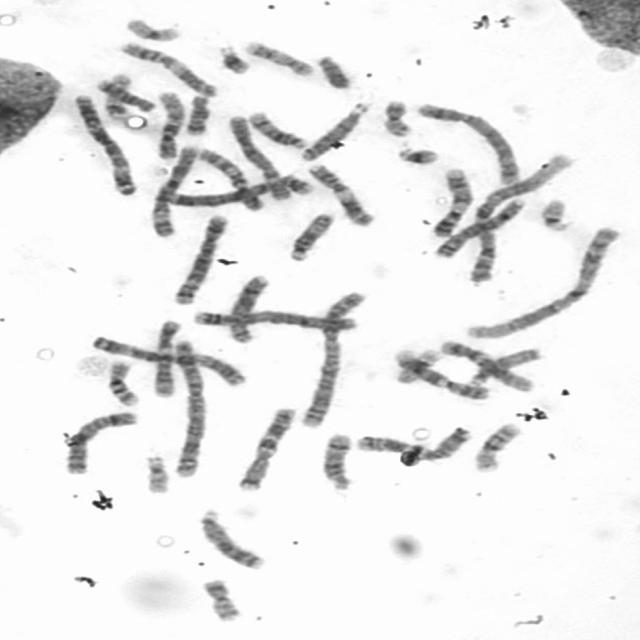A1: (461, 223, 625, 342), (465, 153, 577, 285)
A2: (295, 288, 366, 429), (168, 336, 208, 480)
A3: (87, 332, 250, 388), (68, 91, 140, 197)
B4: (164, 174, 316, 208), (189, 308, 359, 333)
B5: (413, 99, 522, 186), (168, 211, 232, 306)
C10: (192, 144, 266, 213), (151, 88, 187, 161)
C11: (116, 40, 218, 97), (303, 160, 376, 229)
C12: (435, 337, 535, 393), (151, 318, 183, 400)
C6: (226, 110, 293, 202), (144, 142, 201, 238)
C7: (232, 404, 298, 492), (350, 425, 474, 462)
C8: (430, 195, 528, 260), (222, 272, 272, 345)
C9: (389, 347, 491, 402), (428, 165, 474, 238)
D13: (295, 99, 372, 163), (195, 506, 266, 570)
D14: (244, 109, 309, 150), (319, 430, 355, 491)
D15: (465, 345, 545, 387), (284, 210, 336, 263)
E16: (468, 421, 522, 473), (103, 358, 141, 407)
E17: (240, 38, 315, 78), (103, 71, 134, 121)
E18: (94, 76, 156, 112), (182, 92, 213, 136)
F19: (395, 348, 446, 386), (122, 16, 182, 42)
F20: (197, 576, 244, 622), (380, 97, 414, 138)
G21: (214, 43, 252, 76), (392, 143, 442, 167)
G22: (534, 196, 572, 233), (141, 451, 172, 495)
X: (63, 410, 140, 476)
Y: (314, 52, 352, 90)
